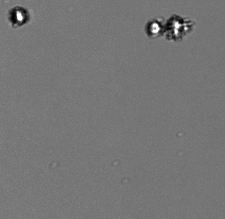Living Cell: (166, 14, 187, 40), (9, 6, 29, 26), (145, 18, 162, 39)
